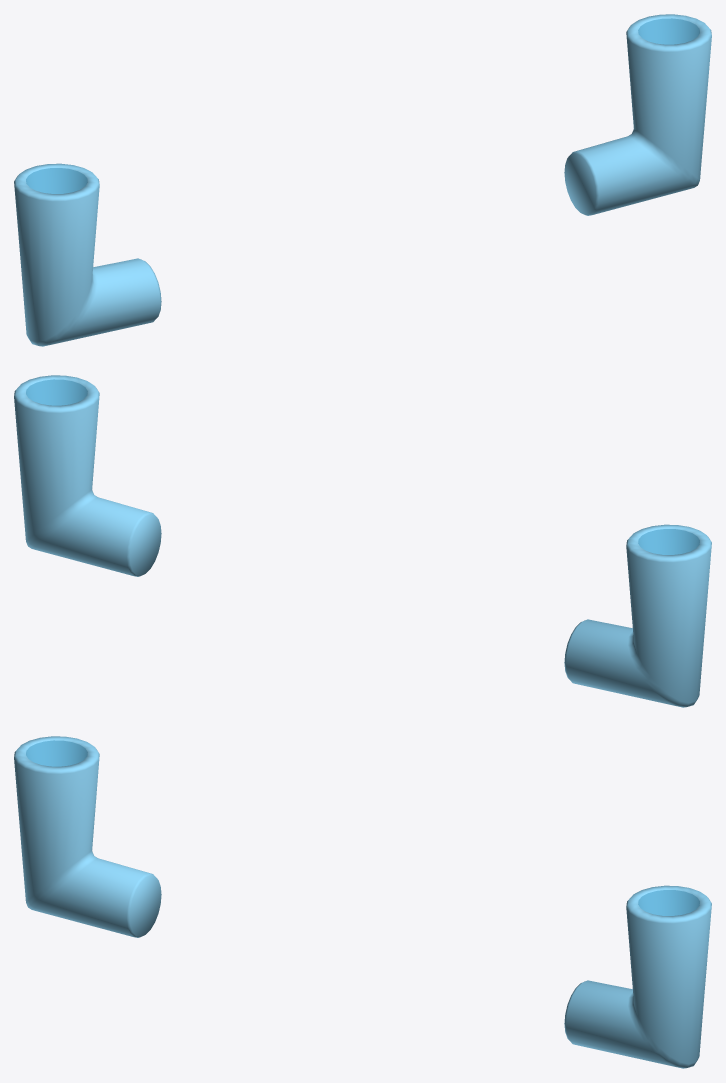
Rendered from finish_confetti.FBX.
The picture shows the model from 3 angles, top to bottom: view 1: azimuth 30°, elevation 25°; view 2: azimuth 150°, elevation 25°; view 3: azimuth 330°, elevation 25°; orthographic projection.
Visible parts, largest first — view 1: finish_confetti; view 2: finish_confetti; view 3: finish_confetti.
Boxes of the visible parts, left/top/right/bottom form: finish_confetti: left=14, top=14, right=711, bottom=346; finish_confetti: left=14, top=375, right=711, bottom=707; finish_confetti: left=14, top=736, right=711, bottom=1068.
Size of the model in its own units: 16.99 by 3.81 by 1.85.
1 material, 1 textured.
